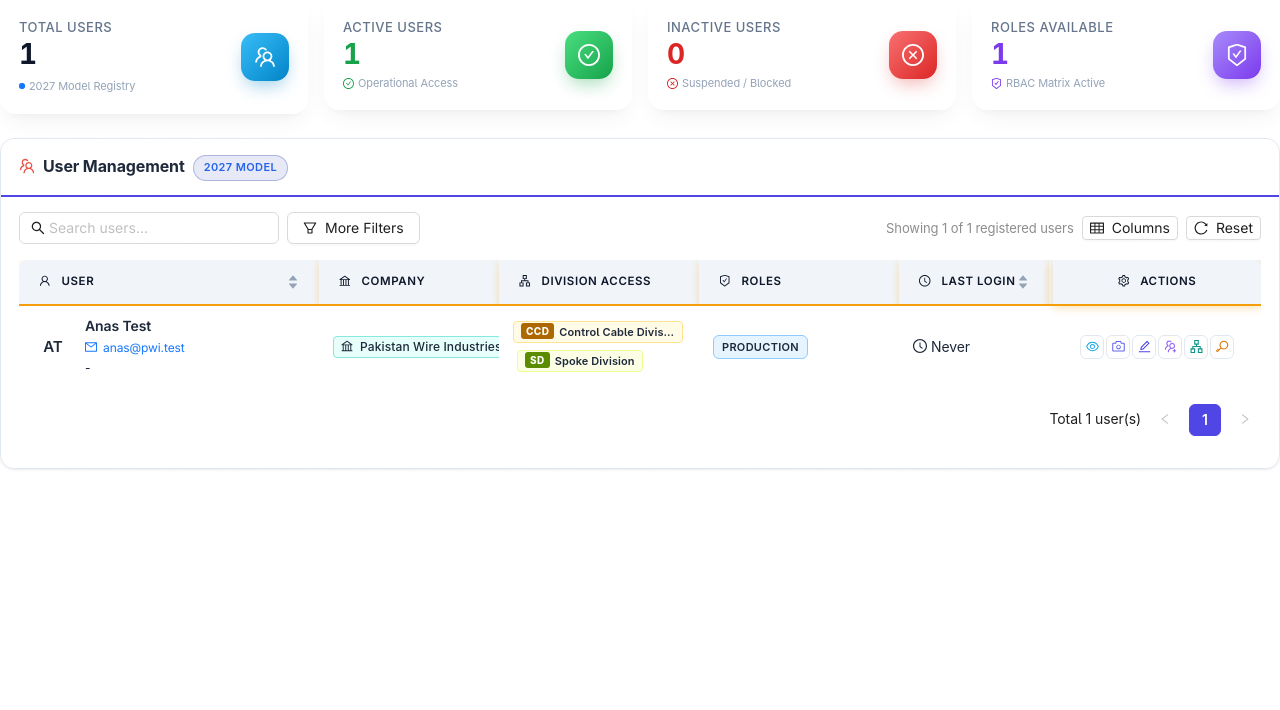
Prompt #16B — Division Access from New User, Edit User and Actions › 1. Actions → Divisions still opens, loads both scopes and revokes one
Click the button with test id "user-division-access".
click(1196, 347)  # box x1=1184 y1=335 x2=1208 y2=359
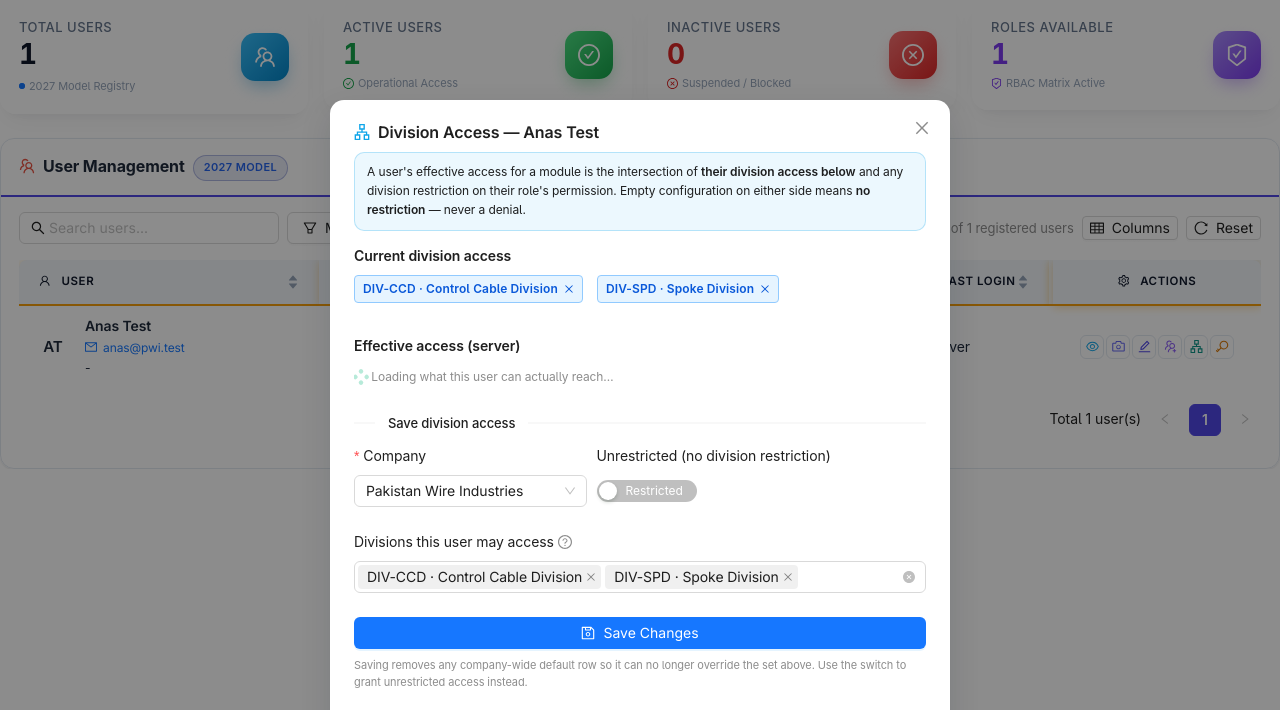
Now the text "Division Access — Anas Test" is shown, box x1=378 y1=122 x2=599 y2=142
Now the text "DIV-CCD · Control Cable Division" is shown, box x1=354 y1=274 x2=583 y2=302
Now the text "DIV-SPD · Spoke Division" is shown, box x1=597 y1=274 x2=779 y2=302
// Revoke SPD
Click the 2nd button named "Remove division access".
click(765, 289)  # box x1=760 y1=282 x2=770 y2=295
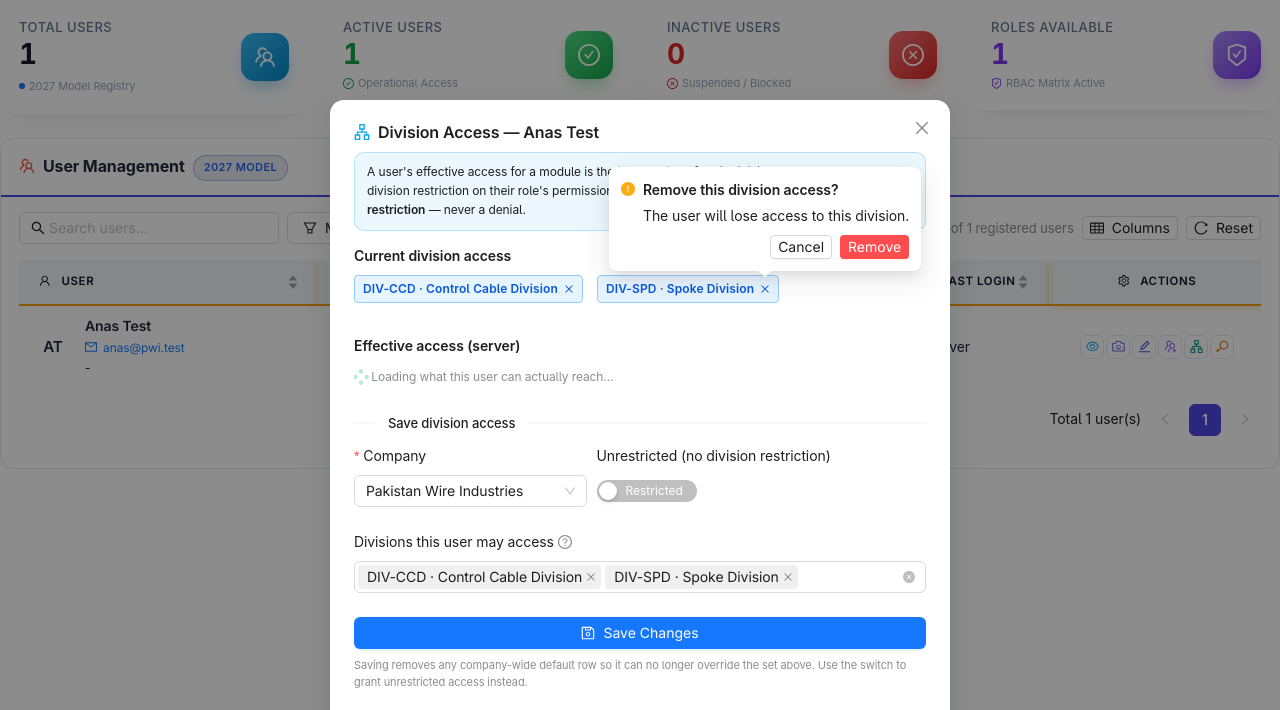
Click the button "Remove".
click(875, 247)  # box x1=840 y1=235 x2=909 y2=259
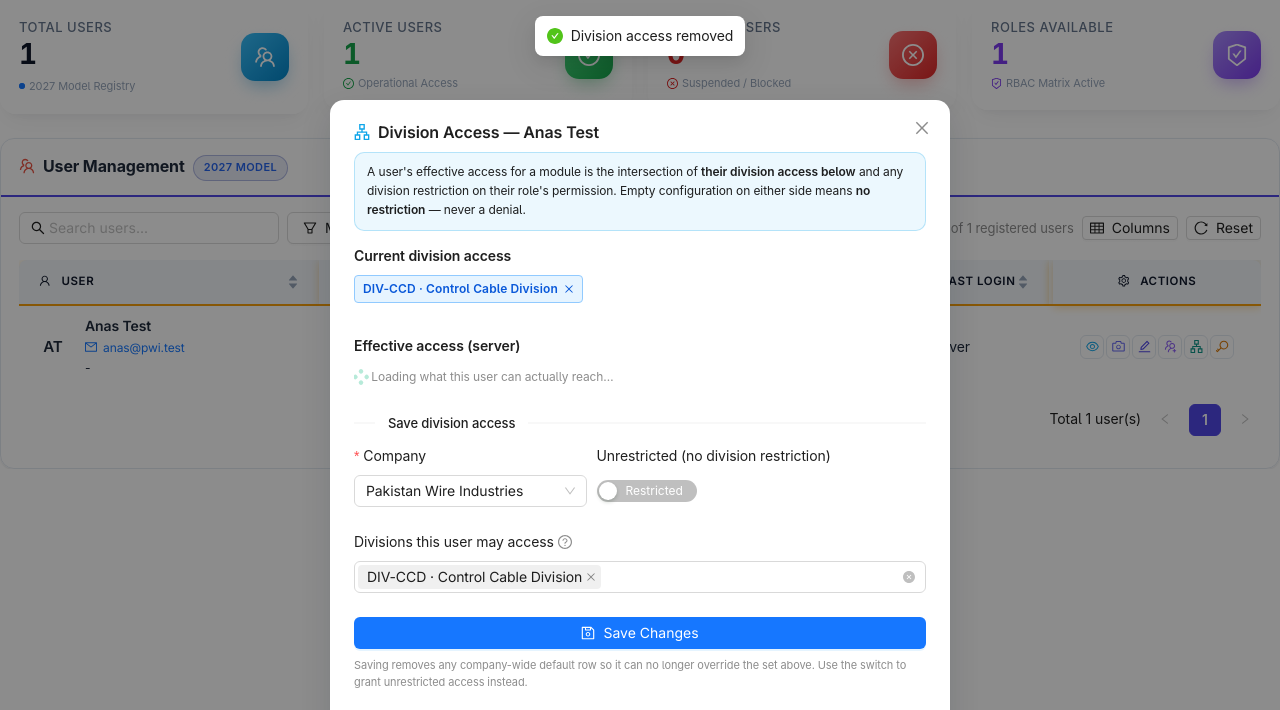
Now the text "DIV-CCD · Control Cable Division" is shown, box x1=354 y1=274 x2=583 y2=302
Now the text "DIV-SPD · Spoke Division" is gone
